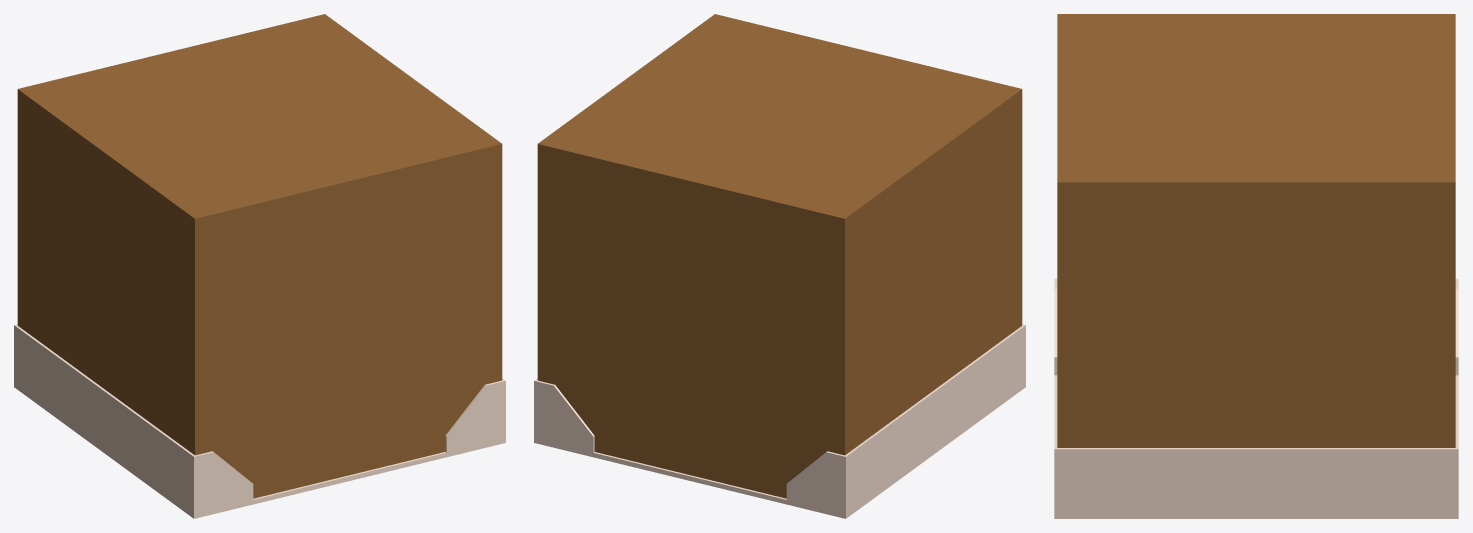
3 renders of one model, left to right at view 1: azimuth 30°, elevation 25°; view 2: azimuth 150°, elevation 25°; view 3: azimuth 270°, elevation 25°, orthographic. The views are drawn at different scales.
Parts seen in each view (by area): view 1: Box4, Box4_Cover; view 2: Box4, Box4_Cover; view 3: Box4, Box4_Cover.
Part boxes in pixels (x1,y1,x2,y2): Box4: (17,14,502,498); Box4_Cover: (14,324,505,518); Box4: (537,14,1022,498); Box4_Cover: (534,324,1025,518); Box4: (1057,14,1455,447); Box4_Cover: (1054,278,1458,518).
Size of the model in its own units: 142 by 130 by 142.
